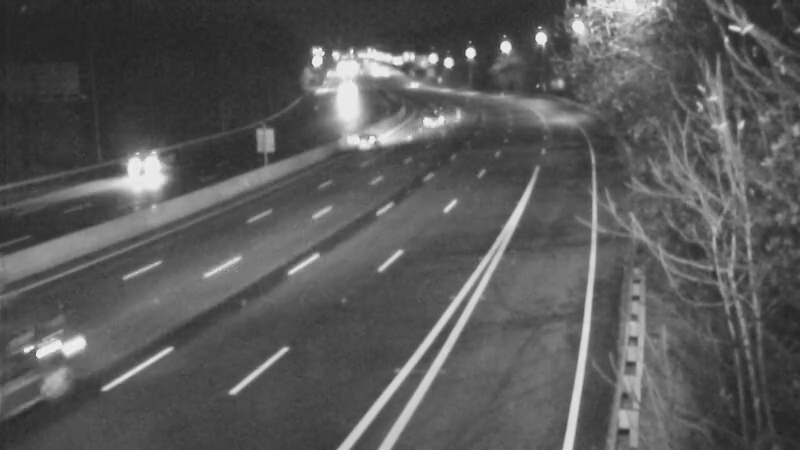vehicle: (94, 127, 174, 207), (382, 60, 432, 110), (405, 87, 455, 137), (336, 120, 386, 170), (318, 74, 368, 124)
